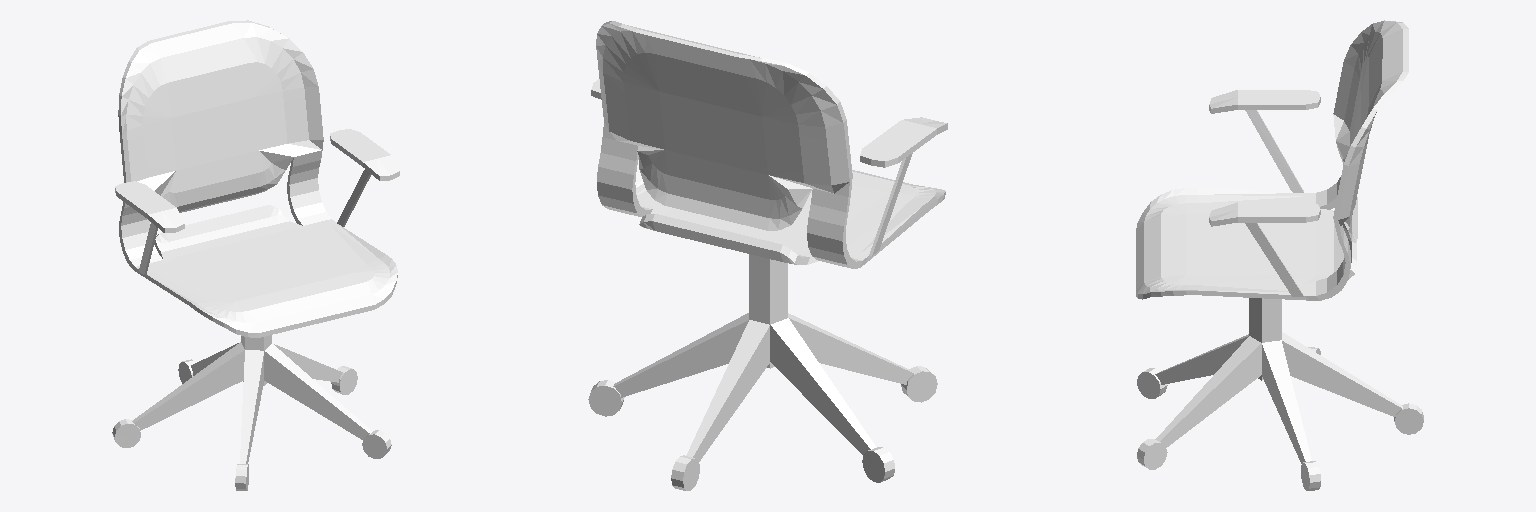
robot.urdf — chair.urdf:
<?xml version="1.0" ?>
<robot name="chair.urdf">
  <material name="white">
    <color rgba="1 1 1 1"/>
  </material>
  <link name="baseLink">
    <contact>
      <lateral_friction value="1.0"/>
    </contact>
    <inertial>
      <origin rpy="0 0 0" xyz="0 0 0"/>
       <mass value="1.0"/>
       <inertia ixx="1" ixy="0" ixz="0" iyy="1" iyz="0" izz="1"/>
    </inertial>
    <visual>
        <origin rpy="1.57 0 0" xyz="0 0 0" />
        <geometry>
            <mesh filename="officeChair.obj" scale="1 1 1" />
        </geometry>
      <material name="white"/>
    </visual>
    <collision>
      <geometry>
        <box size="0.717032 1.000000 0.683208"/>
      </geometry>
    </collision>
  </link>
</robot>

--- What the picture shows (computed from the rendered views, not written in the file) ---
Views: 3 orthographic renders of the robot side by side, from view 1: azimuth 30°, elevation 25°; view 2: azimuth 150°, elevation 25°; view 3: azimuth 270°, elevation 25°.
Model chair.urdf with 1 links and 0 joints (none), rooted at baseLink, posed all joints at 0.
Visible links, largest first — view 1: baseLink; view 2: baseLink; view 3: baseLink.
Boxes of the visible links, <box> form: baseLink: <box>112,20,399,490</box>; baseLink: <box>588,21,947,490</box>; baseLink: <box>1136,20,1423,490</box>.
Bounding box of the posed robot: 0.717 × 0.6829 × 1 m (x, y, z).
Meshes: 1 distinct files referenced, 1 mesh visuals loaded (1 OBJ).